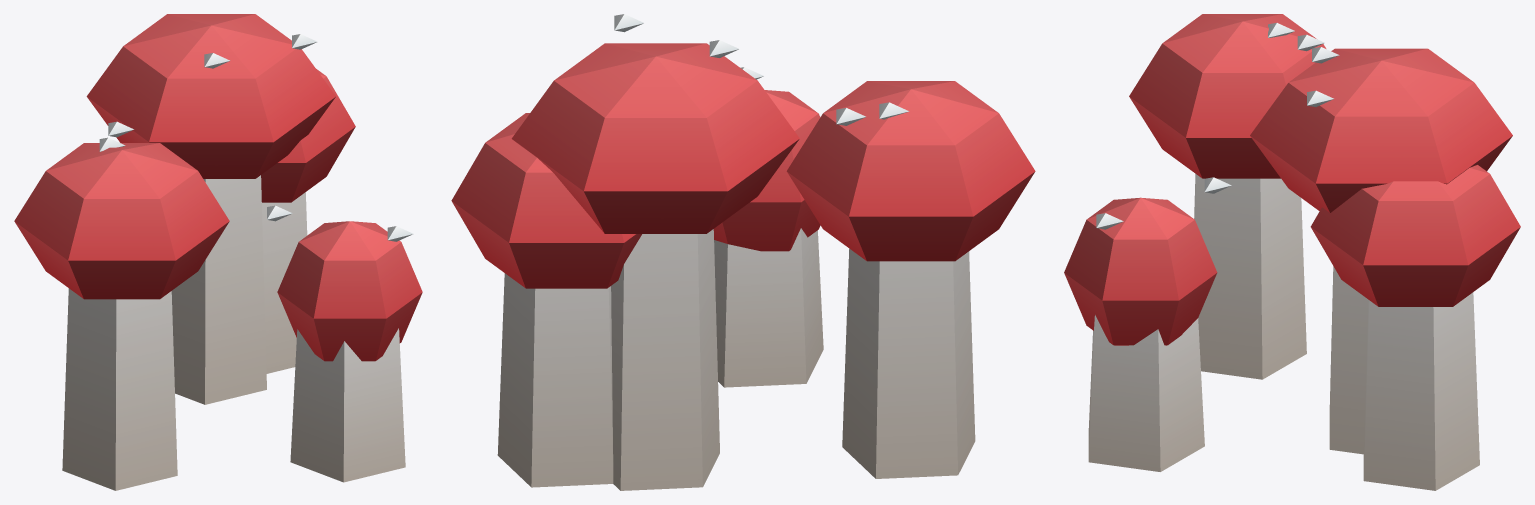
Rendered from mushrooms.glb.
3 views of the same model, side by side, from view 1: azimuth 30°, elevation 25°; view 2: azimuth 150°, elevation 25°; view 3: azimuth 270°, elevation 25° (orthographic). The views are drawn at different scales.
Visible parts, largest first — view 1: mushrooms; view 2: mushrooms; view 3: mushrooms.
Boxes of the visible parts, left/top/right/bottom form: mushrooms: left=14, top=14, right=422, bottom=490; mushrooms: left=451, top=14, right=1035, bottom=490; mushrooms: left=1064, top=14, right=1520, bottom=490.
Bounding box in the file's own units: 0.2466 × 0.2242 × 0.2489.
1 material, 1 textured.
